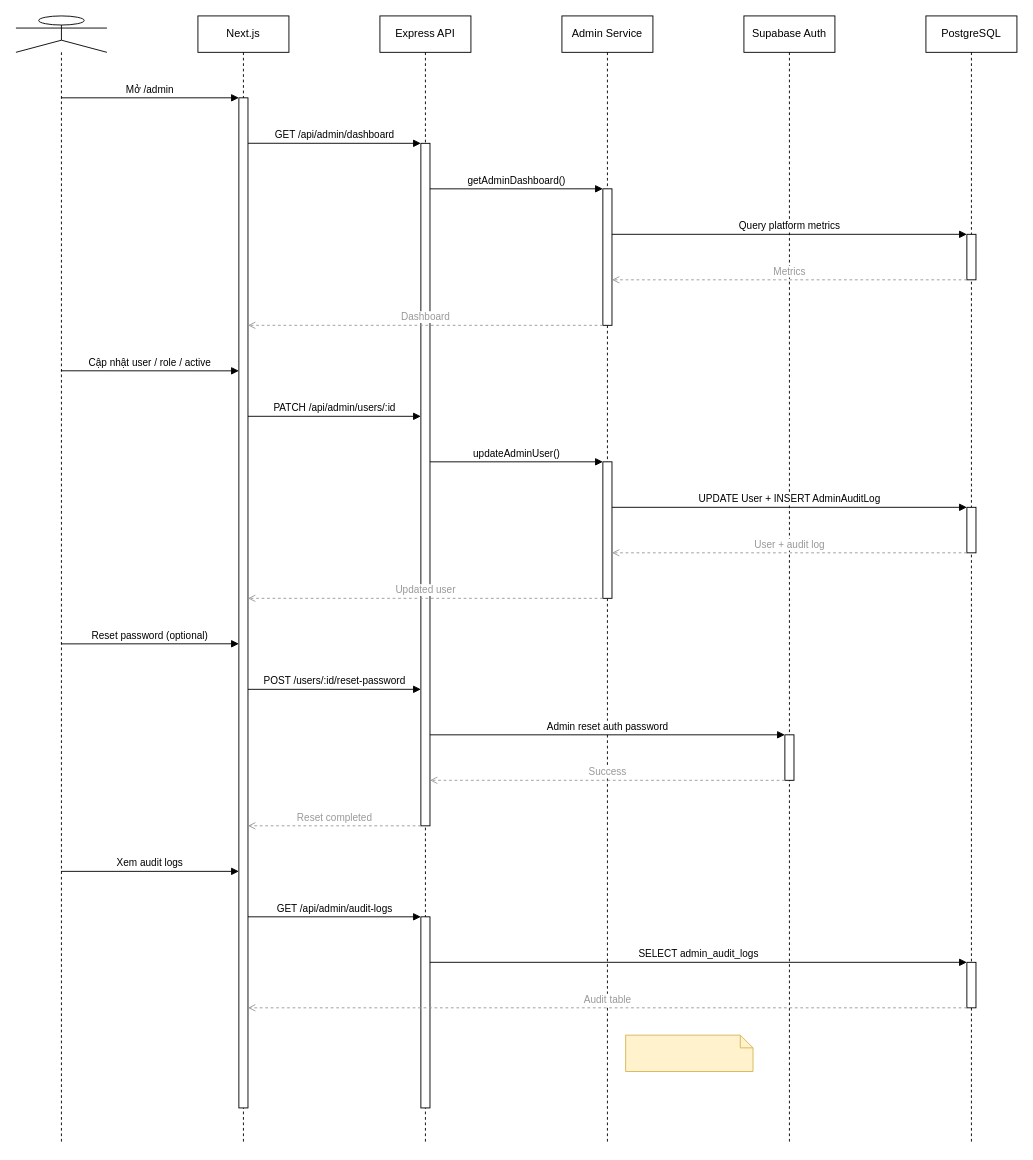
Image size: 1033x1160. Some labels were removed from this diagram. Each missing label, with the box of its shape:
Admin: (15, 15, 107, 1144)
Mọi thao tác quản trị phải qua role guard và ghi audit log: (625, 1034, 753, 1072)
